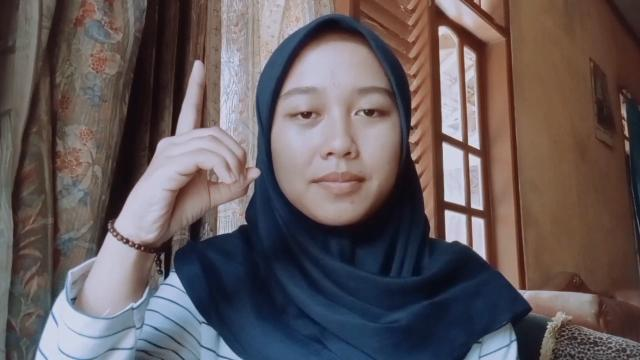D: (136, 62, 262, 226)
